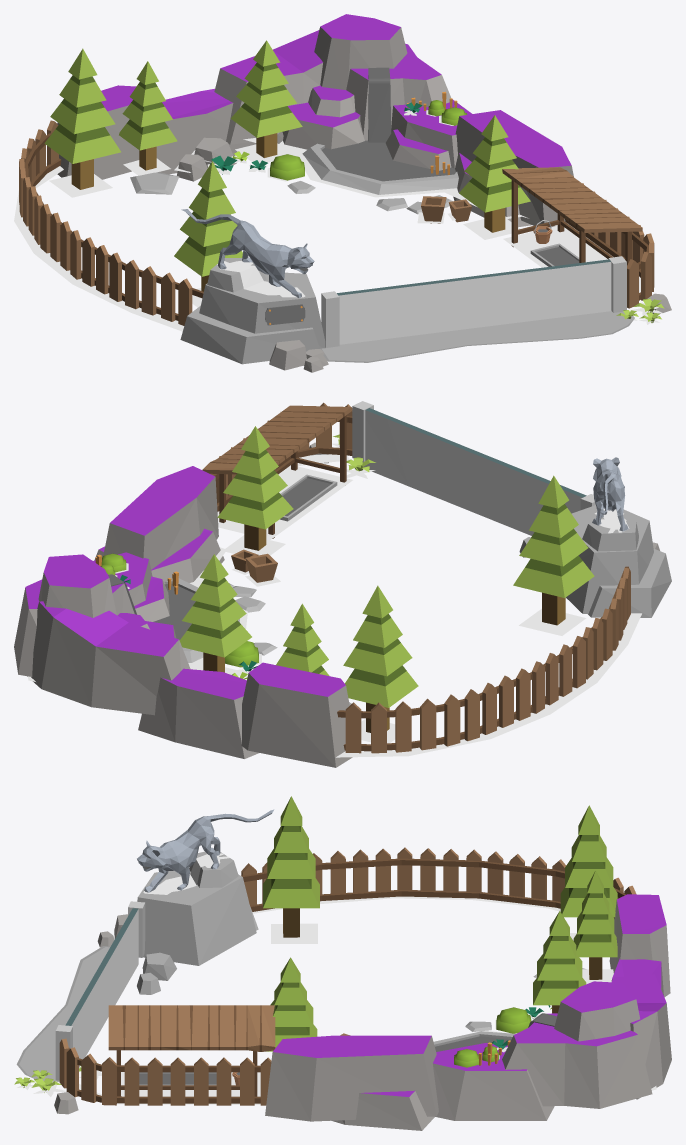
File: xweilan_1001_2.FBX
The picture shows the model from 3 angles, top to bottom: view 1: azimuth 30°, elevation 25°; view 2: azimuth 150°, elevation 25°; view 3: azimuth 270°, elevation 25°; orthographic projection. The views are drawn at different scales.
Parts seen in each view (by area): view 1: xweilan_1001_2; view 2: xweilan_1001_2; view 3: xweilan_1001_2.
Part boxes in pixels (bbox=[...]): xweilan_1001_2: bbox=[14, 14, 671, 372]; xweilan_1001_2: bbox=[14, 401, 671, 767]; xweilan_1001_2: bbox=[14, 796, 671, 1130].
Size of the model in its own units: 4989 by 1630 by 6028.
